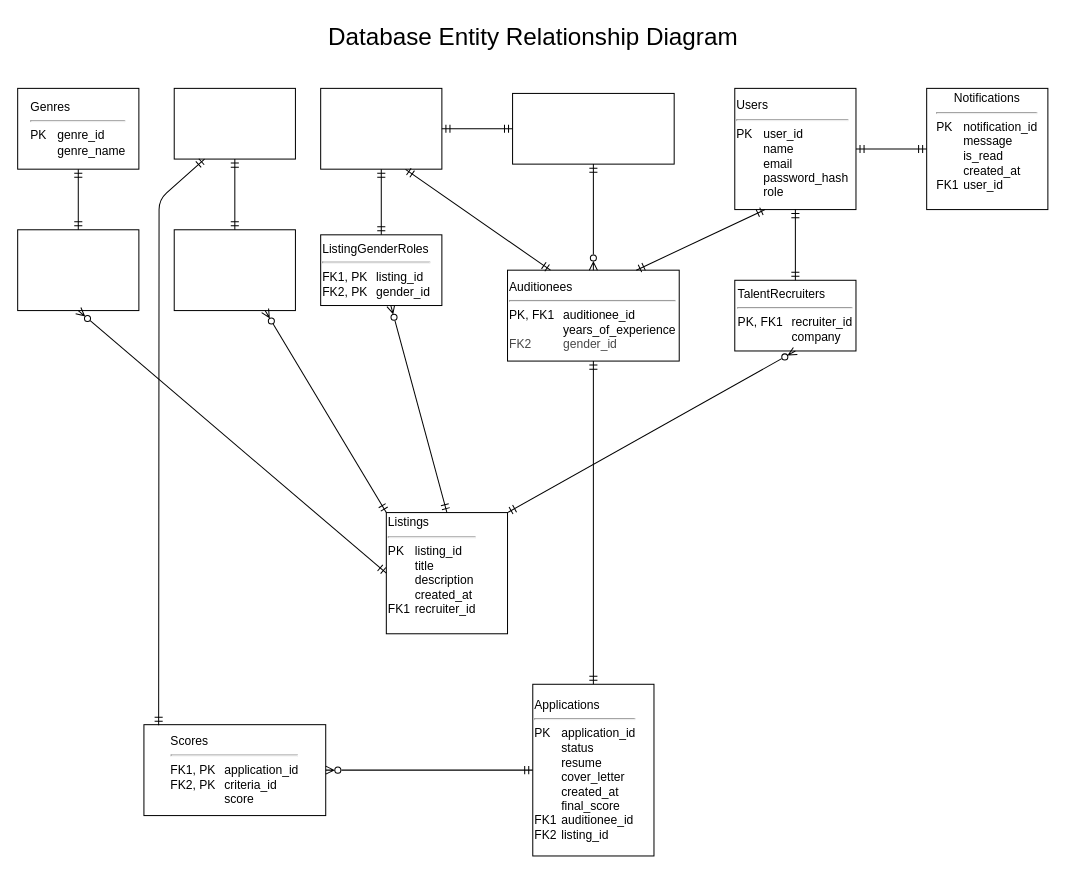
This 1066x874 diagram has some shape labels left out. Here are the shapes that lost their labels. From the top down, the centre of each, then its label:
At pixel 234 123: "Criteria PK criteria_id criteria_name".
At pixel 381 128: "Genders PK gender_id gender_name".
At pixel 593 128: "AuditioneeGenderRoles FK1, PK auditionee_id FK2, PK gender_id".
At pixel 78 270: "ListingGenres FK1, PK listing_id FK2, PK genre_id".
At pixel 234 270: "ListingCriteria FK1, PK listing_id FK2, PK criteria_id weight".
